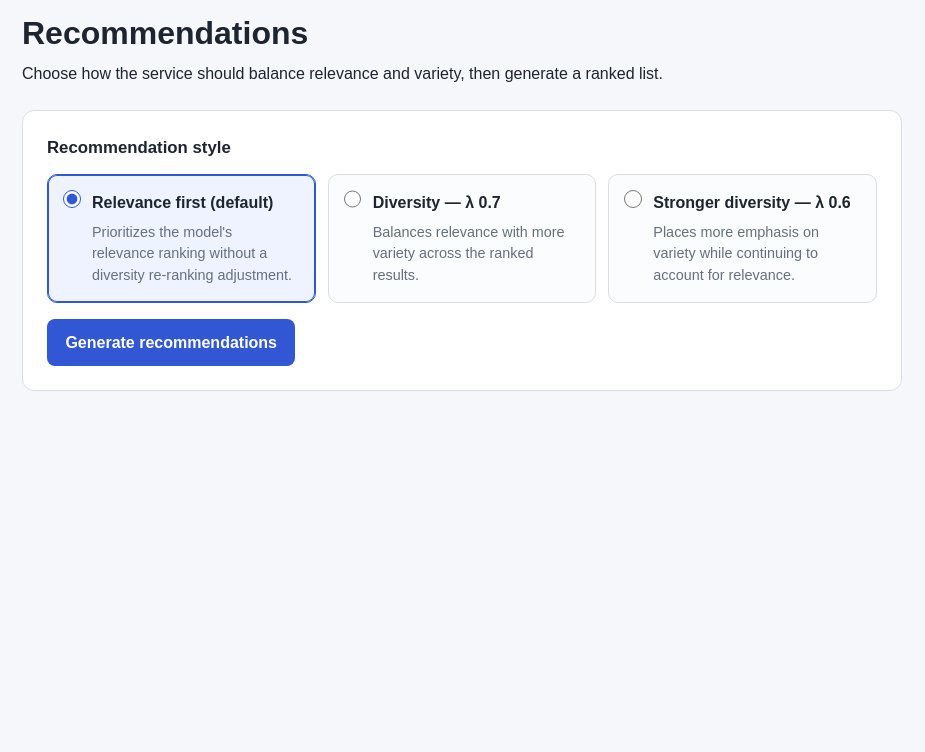
Test: selects Diversity — λ 0\.7 without requesting and submits only its key
The width and height of the screenshot is (925, 752).
Click the 2nd radio button. click: x=352, y=199
box: [344,190,361,208]
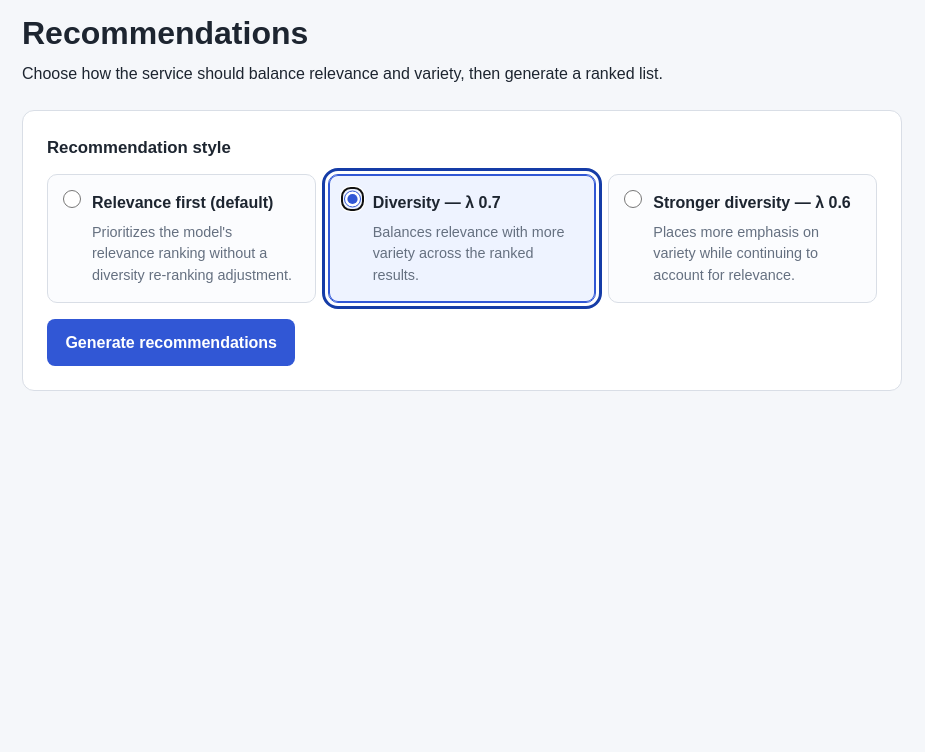
Click the button "Generate recommendations". click: x=171, y=343
box: [47,319,295,366]
(page scrolled)
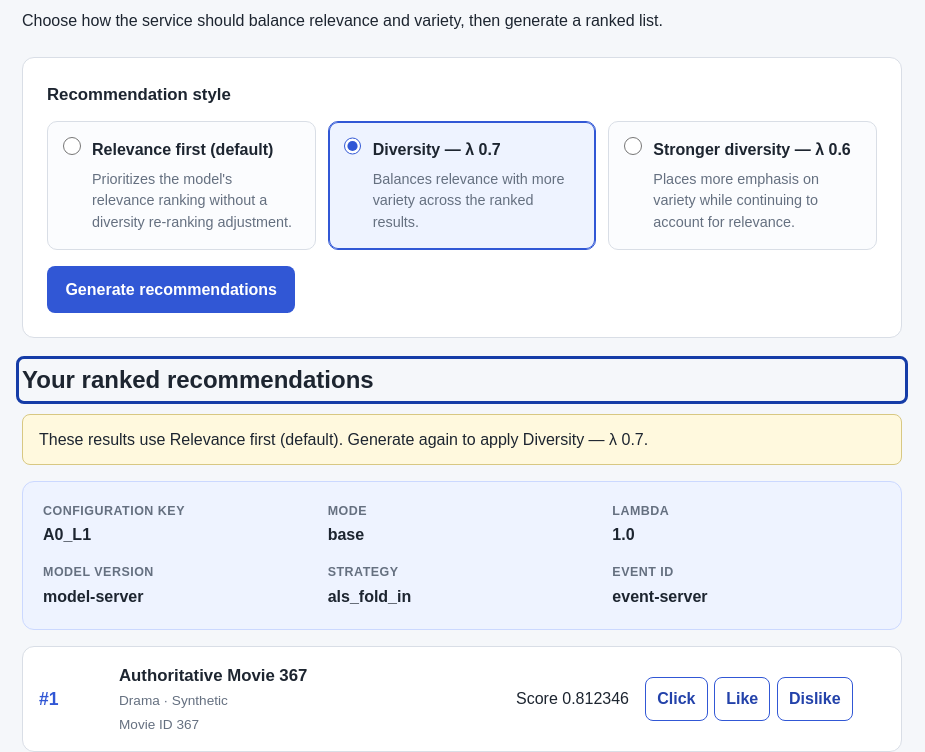
Now the text "Movie ID 367" is shown, box [119,716,199,732]
